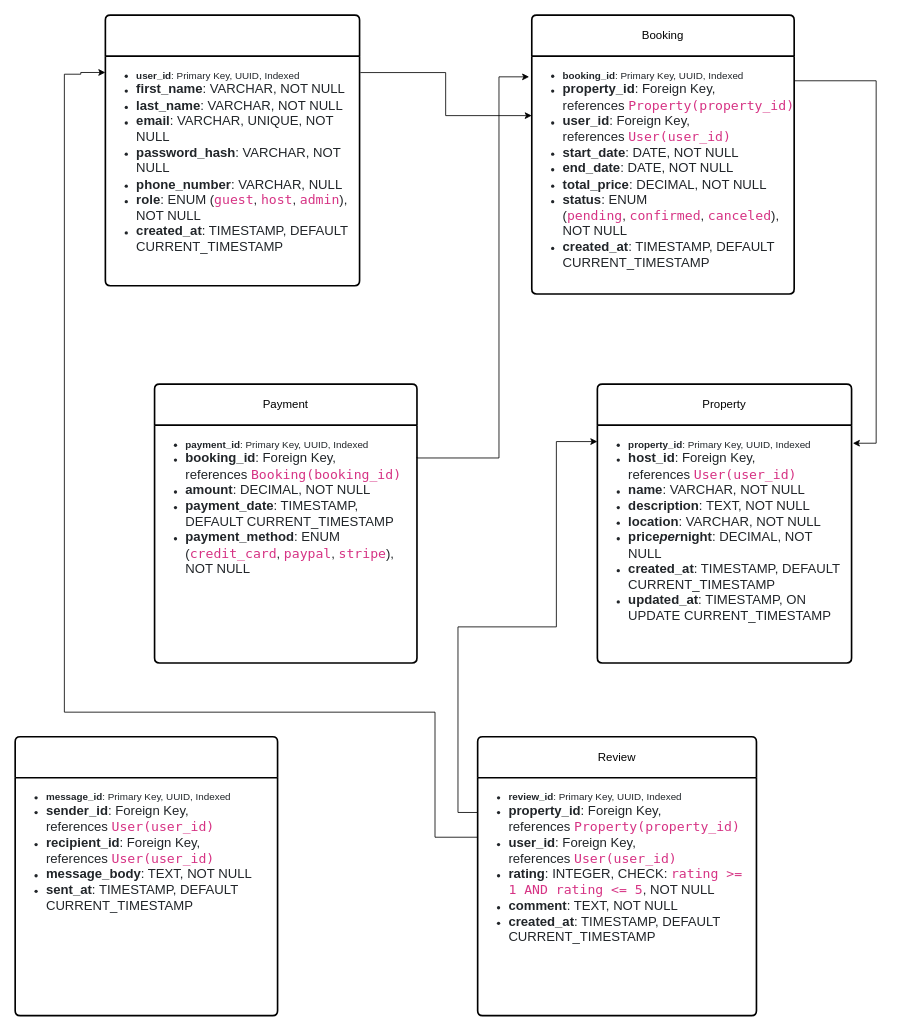
This 897x1030 diagram has some shape labels left out. Each missing label, with the box of its shape:
Messages: (14, 736, 278, 1016)
Users: (104, 14, 360, 286)
